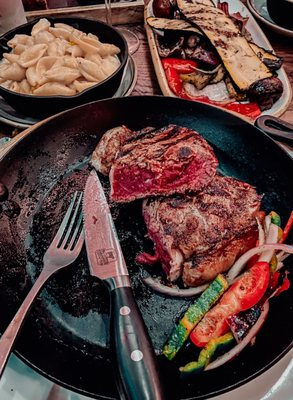burger: (83, 168, 167, 400), (0, 192, 86, 379)
sushi: (0, 16, 132, 124), (241, 0, 293, 40)
